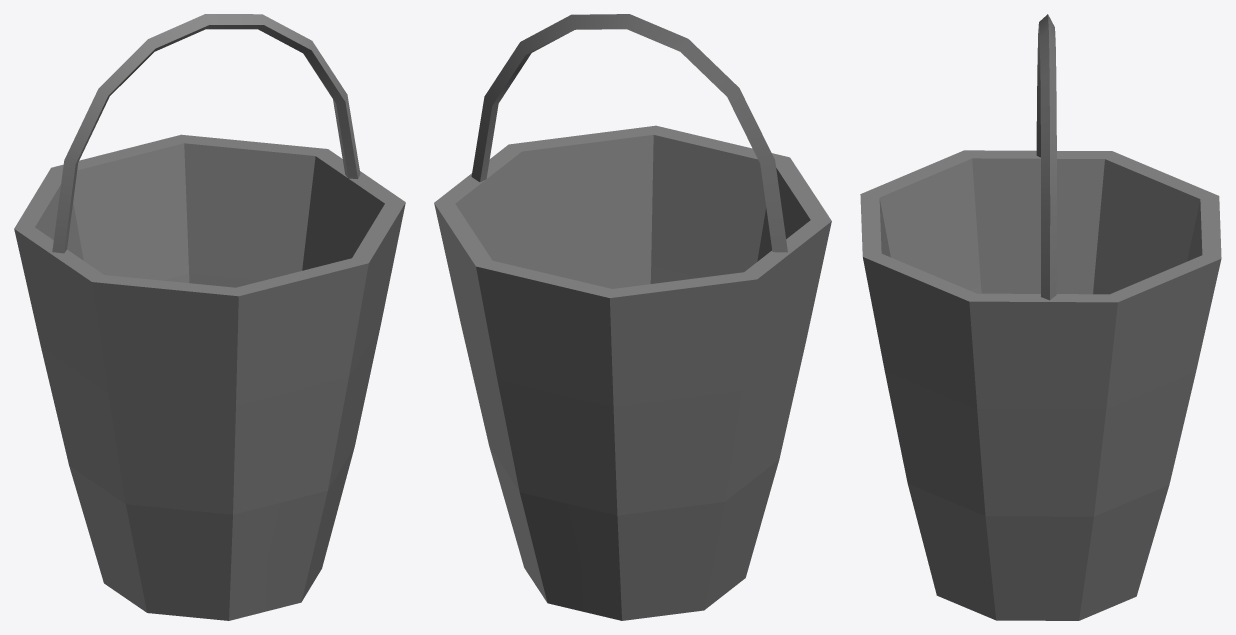
Rendered from Emmer.fbx.
3 renders of one model, left to right at view 1: azimuth 30°, elevation 25°; view 2: azimuth 150°, elevation 25°; view 3: azimuth 270°, elevation 25°, orthographic. The views are drawn at different scales.
Visible parts, largest first — view 1: Cube.001; view 2: Cube.001; view 3: Cube.001.
Boxes of the visible parts, x1,y1,x2,y2 form: Cube.001: (14,14,405,620); Cube.001: (434,14,831,620); Cube.001: (860,14,1221,620).
Bounding box in the file's own units: 0.3304 × 0.5535 × 0.3304.
